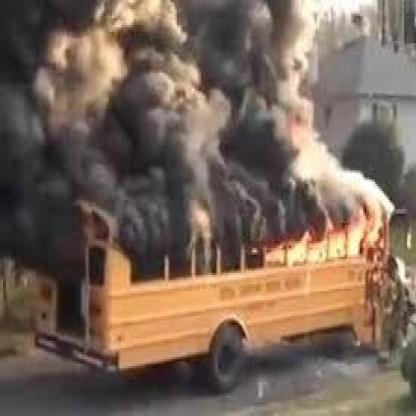smoke: (0, 0, 390, 227)
